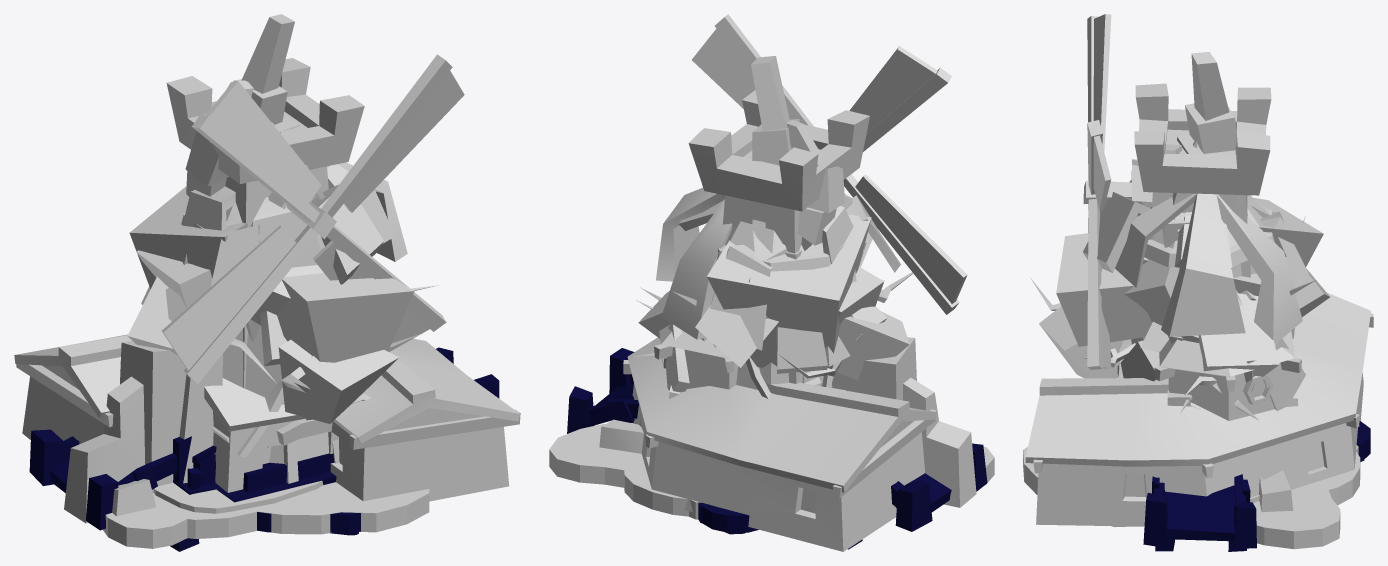
Rendered from EnvironmentAssets01.FBX.
The picture shows the model from 3 angles, left to right: view 1: azimuth 30°, elevation 25°; view 2: azimuth 150°, elevation 25°; view 3: azimuth 270°, elevation 25°; orthographic projection. The views are drawn at different scales.
Parts seen in each view (by area): view 1: windmill01e, treeOak01b, windmill01b, house05a, house05d, tower01c, treeOak04b, ruins01b, treePalm03b, ruins01a, ground13, house01a (+20 smaller); view 2: house05d, house05a, tower01c, treeOak01b, windmill01e, treePalm03b, windmill01b, ruins01a, bridge05a, ground13, treePalm01b, treePine01b (+15 smaller); view 3: house05d, house05a, treePalm03b, tower01c, treeOak01b, treeOak04b, windmill01b, treePine01b, ground13, treePalm01b, bridge05b, windmill01e (+12 smaller).
Part boxes in pixels (x1,y1,x2,y2): windmill01e: (162, 70, 464, 370); treeOak01b: (129, 186, 414, 362); windmill01b: (181, 54, 452, 483); house05a: (22, 376, 509, 501); house05d: (14, 334, 519, 443); tower01c: (166, 58, 364, 183); treeOak04b: (136, 250, 398, 423); ruins01b: (112, 341, 186, 516); treePalm03b: (182, 162, 407, 267); ruins01a: (64, 376, 144, 523); ground13: (103, 484, 366, 548); house01a: (179, 354, 294, 492); house05d: (627, 324, 936, 492); house05a: (632, 349, 924, 551); tower01c: (688, 90, 869, 259); treeOak01b: (701, 214, 871, 369); windmill01e: (692, 28, 967, 303); treePalm03b: (656, 187, 864, 339); windmill01b: (715, 14, 959, 314); ruins01a: (599, 378, 976, 507); bridge05a: (567, 348, 987, 549); ground13: (549, 423, 994, 487); treePalm01b: (679, 195, 900, 366); treePine01b: (750, 56, 804, 383); house05d: (1025, 290, 1370, 466); house05a: (1036, 369, 1363, 526); treePalm03b: (1115, 193, 1302, 344); tower01c: (1134, 83, 1271, 239); treeOak01b: (1056, 197, 1323, 391); treeOak04b: (1039, 293, 1279, 378); windmill01b: (1083, 16, 1275, 369); treePine01b: (1162, 52, 1236, 247); ground13: (1253, 490, 1340, 549); treePalm01b: (1083, 180, 1308, 290); bridge05b: (1152, 476, 1250, 541); windmill01e: (1093, 14, 1111, 368).
Size of the model in its own units: 669 by 762 by 537.
